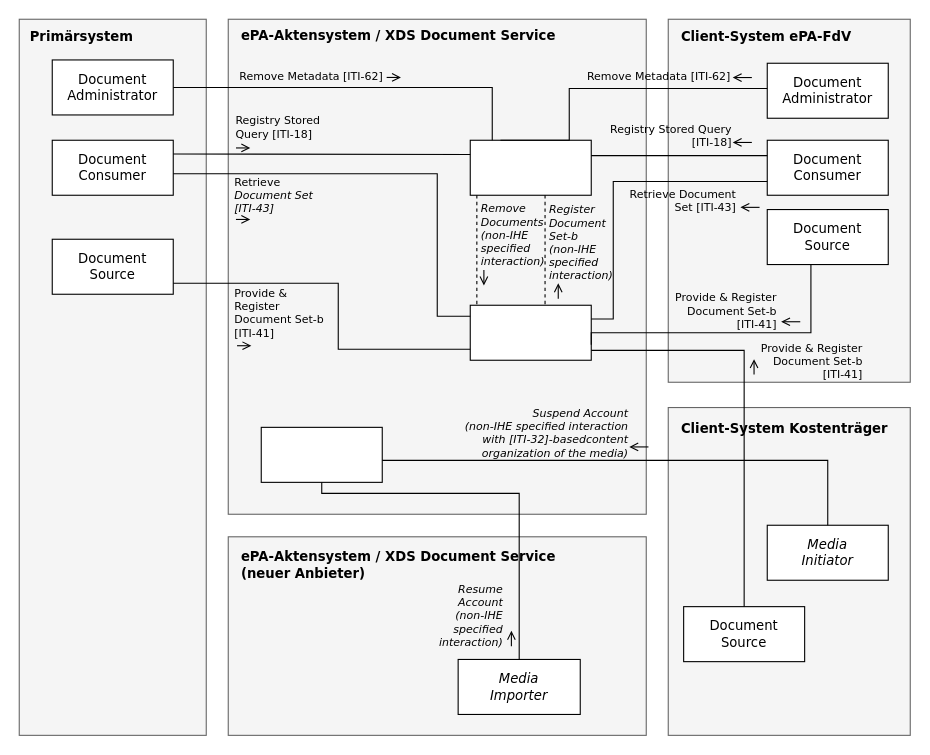
This 930x755 diagram has some shape labels left out. The box of each missing label's shape, as (x1, y1, x2, y2) in pixels:
Document Registry: (469, 139, 591, 195)
Document Repository: (469, 304, 591, 360)
Media Creator: (260, 426, 382, 482)
